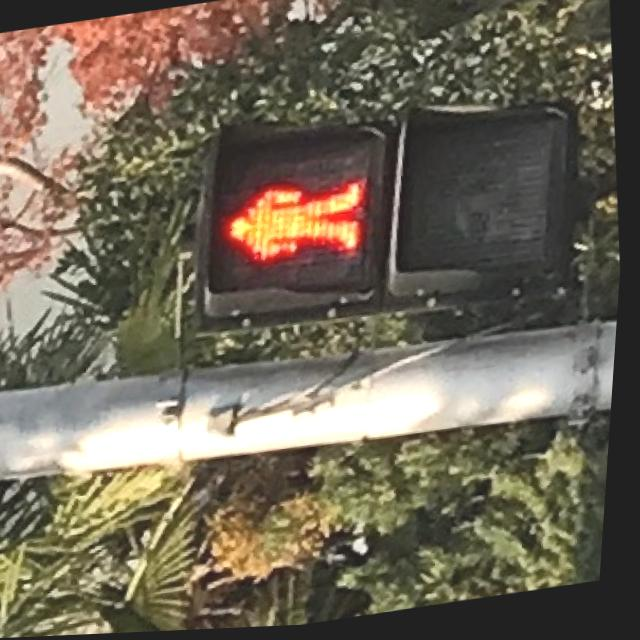red_light: (193, 146, 388, 304)
